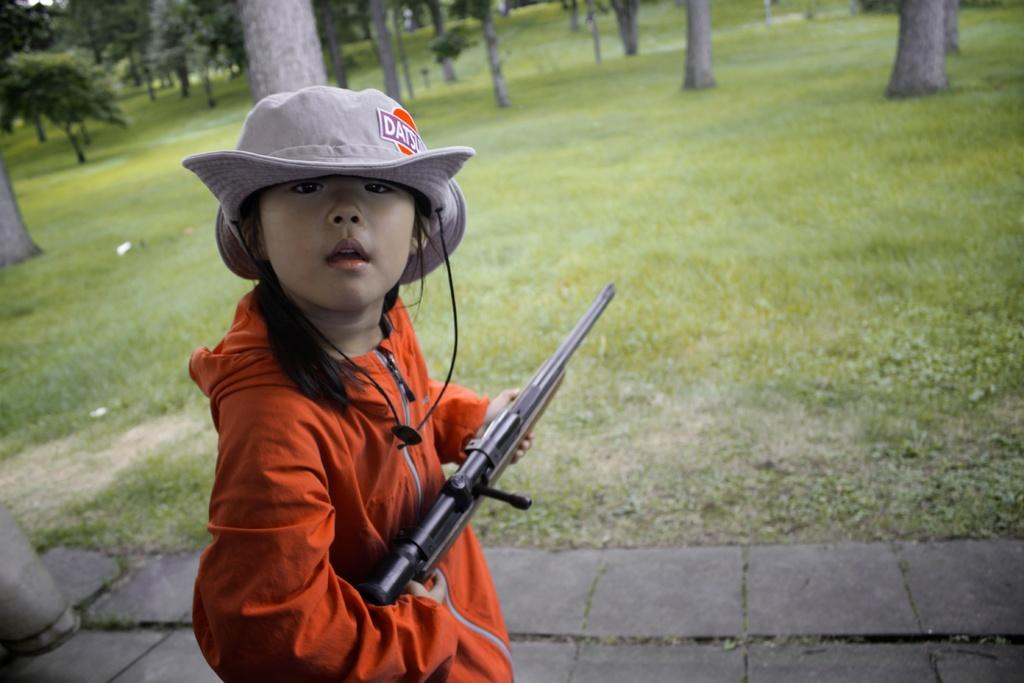Shotgun: (371, 266, 605, 661)
